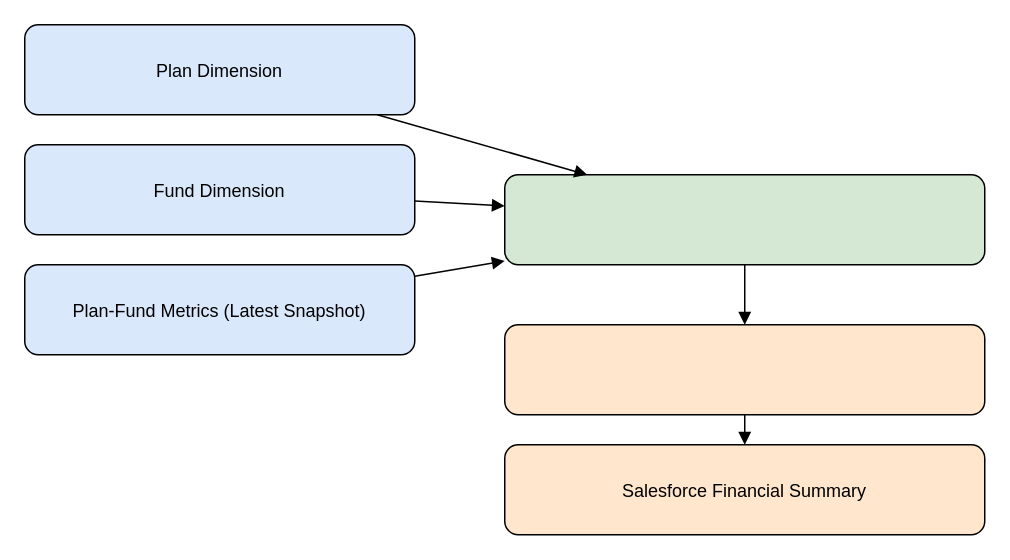
Image size: 1010x560. Some labels were removed from this diagram. Here are the shapes that lost their labels. From the top down, the centre of each, then its label:
At pixel 744 219: "Outbound Financial Detail View".
At pixel 744 369: "Salesforce Contract".
